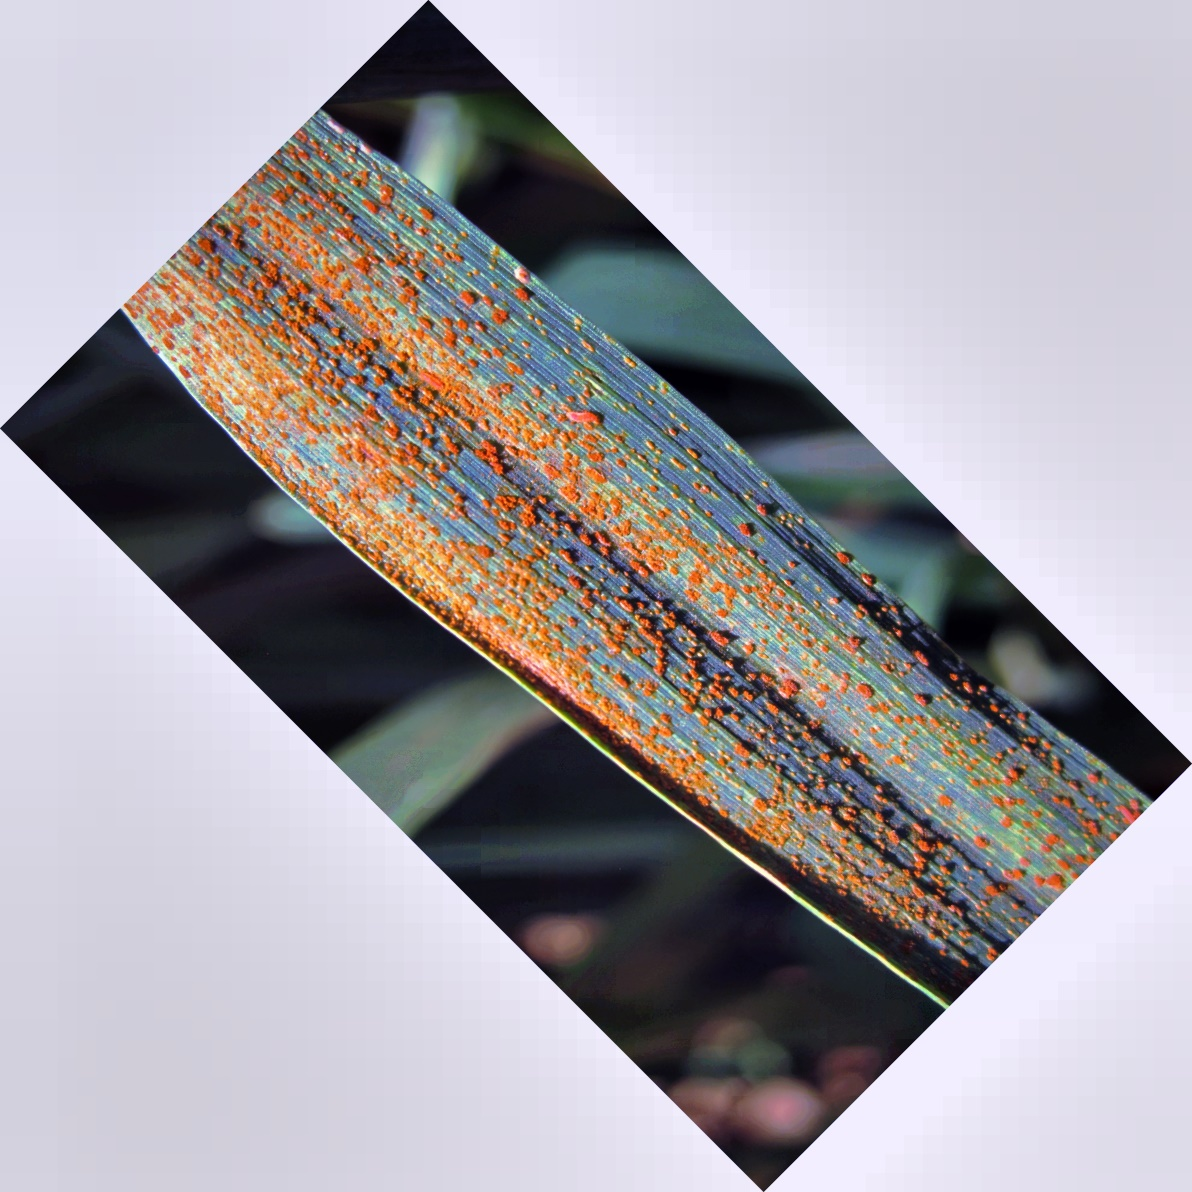Leaf Rust: (178, 235, 1006, 1004)
